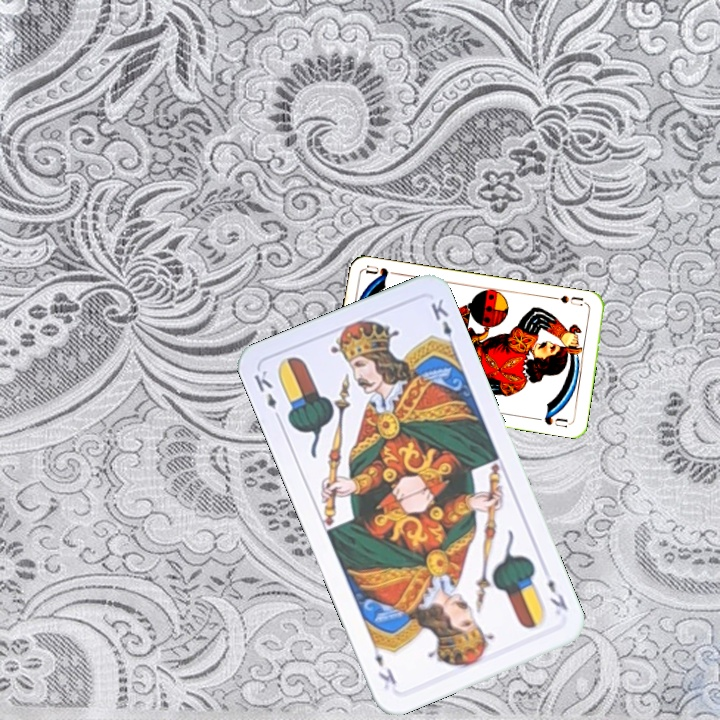EK: (249, 366, 284, 424), (543, 575, 571, 613)
SU: (549, 291, 590, 309)
